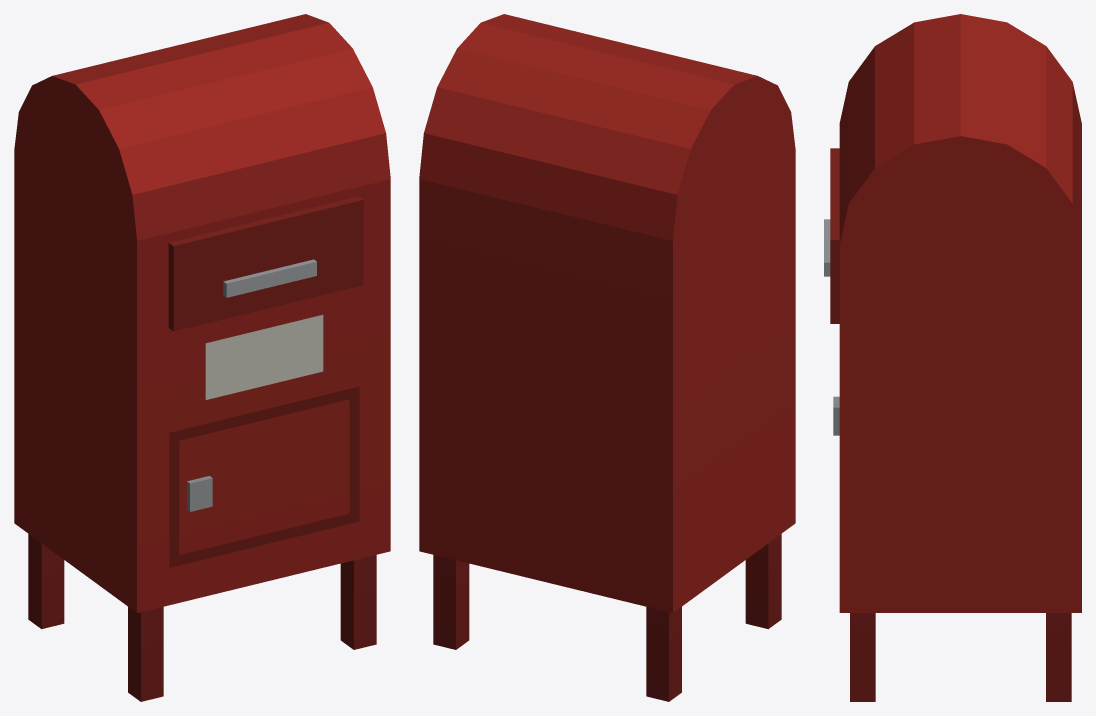
File: street.mailbox.red.glb
The picture shows the model from 3 angles, left to right: view 1: azimuth 30°, elevation 25°; view 2: azimuth 150°, elevation 25°; view 3: azimuth 270°, elevation 25°; orthographic projection.
Visible parts, largest first — view 1: street_mailbox_red; view 2: street_mailbox_red; view 3: street_mailbox_red.
Part boxes in pixels (x1=…): street_mailbox_red: x1=14, y1=14, x2=390, y2=701; street_mailbox_red: x1=419, y1=14, x2=795, y2=701; street_mailbox_red: x1=824, y1=14, x2=1081, y2=701.
Size of what is drawn, in the model's own units: 0.56 by 1.22 by 0.5.
